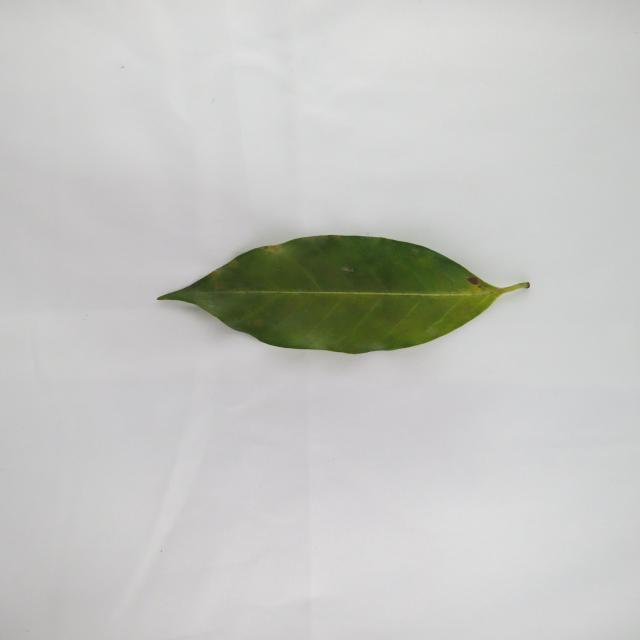DeficienciaNutricional-Nitrogeno: (158, 235, 528, 354)
